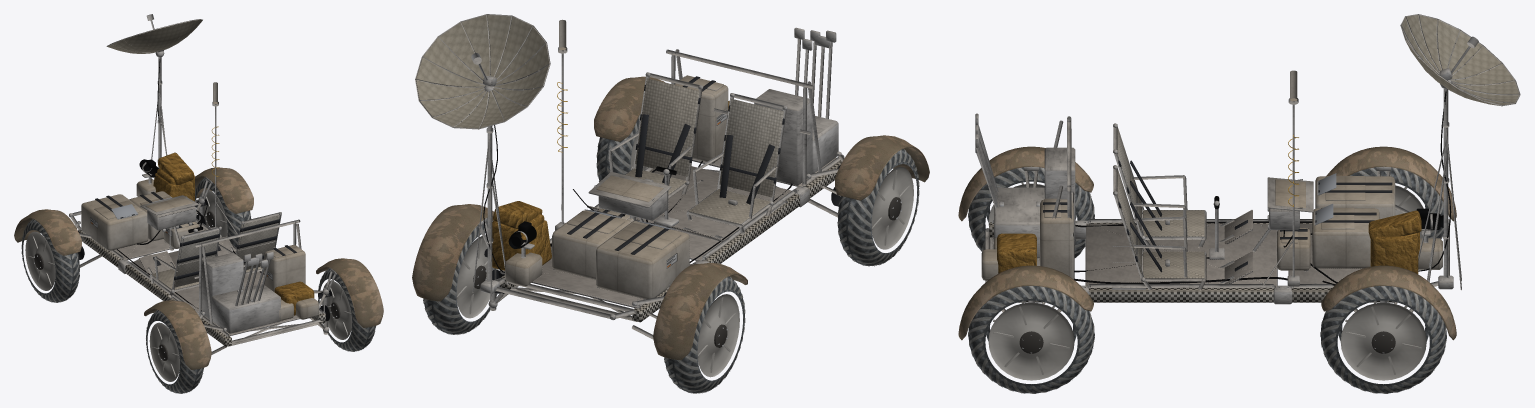
The model's file is lrv.glb.
The picture shows the model from 3 angles, left to right: view 1: azimuth 30°, elevation 25°; view 2: azimuth 150°, elevation 25°; view 3: azimuth 270°, elevation 25°; orthographic projection. The views are drawn at different scales.
Visible parts, largest first — view 1: body, wheelFL_tyre, wheelRL_tyre, wheelRR_wing, wheelRL_wing, wheelRR_tyre, wheelFL_wing, wheelFR_wing, wheelFR_tyre; view 2: body, wheelRL_tyre, wheelFL_tyre, wheelFL_wing, wheelFR_wing, wheelFR_tyre, wheelRL_wing, wheelRR_wing, wheelRR_tyre; view 3: body, wheelRR_tyre, wheelFR_tyre, wheelRR_wing, wheelFR_wing, wheelRL_tyre, wheelFL_wing, wheelRL_wing, wheelFL_tyre.
Boxes of the visible parts, box(x1,y1,x2,y2) form: body: box(69, 14, 332, 354); wheelFL_tyre: box(21, 219, 79, 302); wheelRL_tyre: box(146, 310, 203, 393); wheelRR_wing: box(316, 258, 383, 327); wheelRL_wing: box(144, 300, 211, 369); wheelRR_tyre: box(318, 268, 375, 351); wheelFL_wing: box(14, 209, 81, 255); wheelFR_wing: box(195, 167, 253, 213); wheelFR_tyre: box(195, 177, 251, 247); body: box(415, 14, 844, 339); wheelRL_tyre: box(837, 149, 919, 266); wheelFL_tyre: box(664, 276, 745, 393); wheelFL_wing: box(653, 262, 747, 360); wheelFR_wing: box(412, 204, 494, 301); wheelFR_tyre: box(423, 218, 498, 334); wheelRL_wing: box(835, 135, 929, 200); wheelRR_wing: box(594, 76, 664, 141); wheelRR_tyre: box(596, 114, 647, 182); body: box(975, 14, 1520, 312); wheelRR_tyre: box(968, 286, 1094, 393); wheelFR_tyre: box(1320, 286, 1446, 393); wheelRR_wing: box(958, 265, 1093, 340); wheelFR_wing: box(1321, 265, 1456, 340); wheelRL_tyre: box(968, 167, 1094, 257); wheelFL_wing: box(1326, 146, 1456, 221); wheelRL_wing: box(958, 146, 1093, 221); wheelFL_tyre: box(1350, 167, 1443, 239).
Bounding box in the file's own units: 2.13 × 2.43 × 3.66.
Materials: 24 (16 with a texture image).
